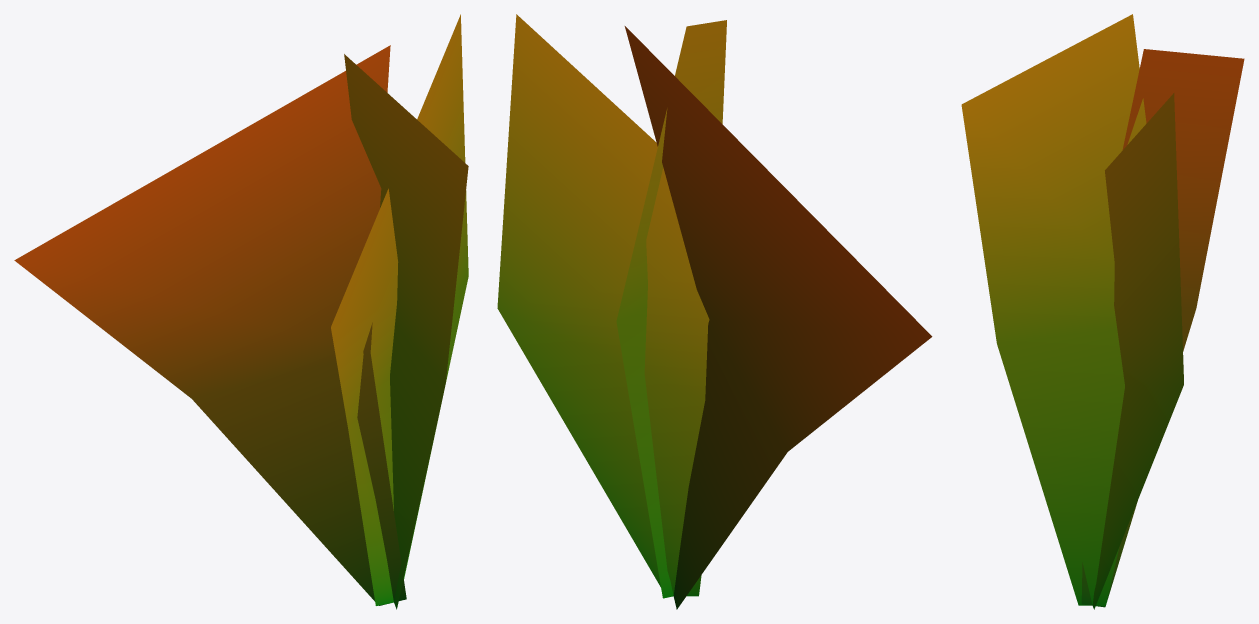
Rendered from Ocean Seaweed_LOD1_Var1_sdDkn.fbx.
3 views of the same model, side by side, from view 1: azimuth 30°, elevation 25°; view 2: azimuth 150°, elevation 25°; view 3: azimuth 270°, elevation 25° (orthographic). The views are drawn at different scales.
Visible parts, largest first — view 1: _17e3_Var1_LOD1; view 2: _17e3_Var1_LOD1; view 3: _17e3_Var1_LOD1.
Boxes of the visible parts, left/top/right/bottom form: _17e3_Var1_LOD1: left=14, top=14, right=468, bottom=609; _17e3_Var1_LOD1: left=497, top=14, right=932, bottom=609; _17e3_Var1_LOD1: left=961, top=14, right=1244, bottom=609.
Size of the model in its own units: 27.71 by 34.07 by 15.02.
